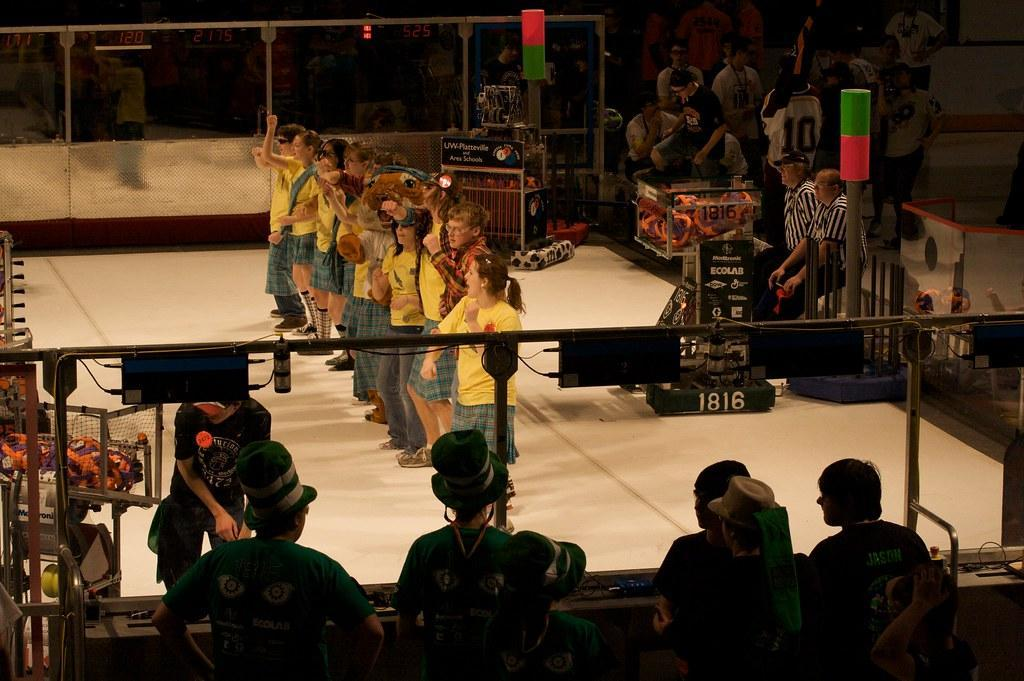robot: (619, 186, 782, 420), (420, 72, 585, 272), (0, 459, 132, 622)
